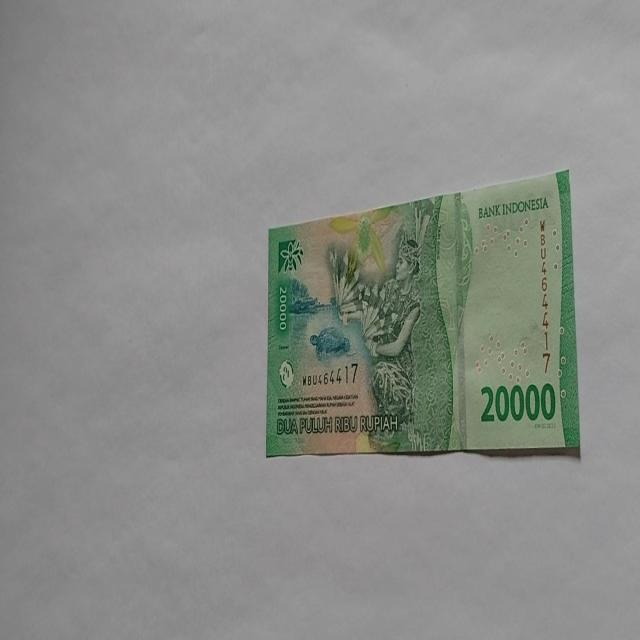dua puluh ribu rupiah: (265, 167, 581, 461)
